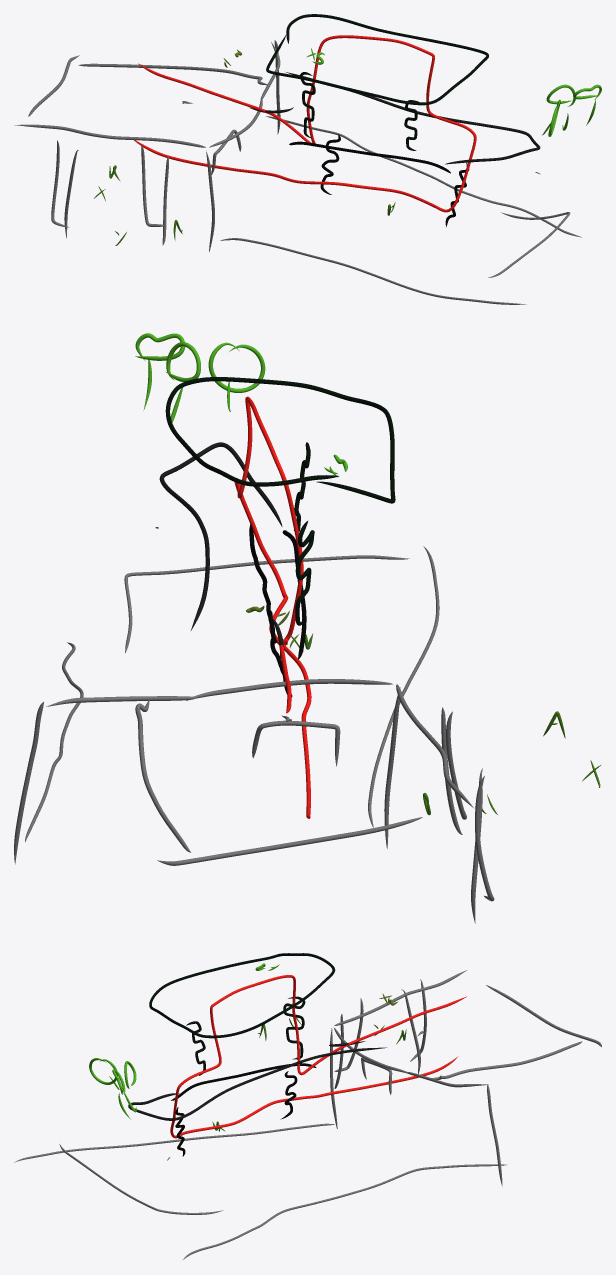
The picture shows the model from 3 angles, top to bottom: view 1: azimuth 30°, elevation 25°; view 2: azimuth 150°, elevation 25°; view 3: azimuth 270°, elevation 25°; orthographic projection. The views are drawn at different scales.
Visible parts, largest first — view 1: s.0069, s.0056, s.0048, s.0018, s.0020, s.0012, s.0010, s.0042, s.0023; view 2: s.0069, s.0056, s.0048, s.0011, s.0023, s.0018, s.0003, s.0012, s.0008, s.0020, s.0055; view 3: s.0069, s.0056, s.0048, s.0020, s.0018, s.0012, s.0023, s.0010, s.0011, s.0042.
Part boxes in pixels (x1=…): s.0069: x1=134, y1=35, x2=476, y2=212; s.0056: x1=266, y1=14, x2=488, y2=105; s.0048: x1=286, y1=72, x2=540, y2=164; s.0018: x1=220, y1=238, x2=526, y2=304; s.0020: x1=266, y1=116, x2=581, y2=237; s.0012: x1=78, y1=63, x2=267, y2=85; s.0010: x1=14, y1=124, x2=205, y2=147; s.0042: x1=289, y1=141, x2=450, y2=173; s.0023: x1=488, y1=212, x2=570, y2=277; s.0069: x1=234, y1=396, x2=311, y2=818; s.0056: x1=165, y1=377, x2=395, y2=503; s.0048: x1=159, y1=442, x2=282, y2=630; s.0011: x1=157, y1=817, x2=422, y2=865; s.0023: x1=124, y1=555, x2=409, y2=653; s.0018: x1=368, y1=546, x2=439, y2=827; s.0003: x1=186, y1=679, x2=393, y2=700; s.0012: x1=135, y1=700, x2=190, y2=852; s.0008: x1=14, y1=702, x2=43, y2=864; s.0020: x1=25, y1=642, x2=83, y2=842; s.0055: x1=295, y1=521, x2=314, y2=625; s.0069: x1=170, y1=975, x2=466, y2=1138; s.0056: x1=149, y1=953, x2=335, y2=1038; s.0048: x1=128, y1=1047, x2=386, y2=1120; s.0020: x1=183, y1=1164, x2=507, y2=1259; s.0018: x1=14, y1=1123, x2=335, y2=1162; s.0012: x1=432, y1=1041, x2=582, y2=1079; s.0023: x1=59, y1=1144, x2=223, y2=1214; s.0010: x1=334, y1=970, x2=466, y2=1025; s.0011: x1=486, y1=985, x2=601, y2=1047; s.0042: x1=171, y1=1063, x2=316, y2=1100.
Bounding box in the file's own units: 201 × 259 × 100.
